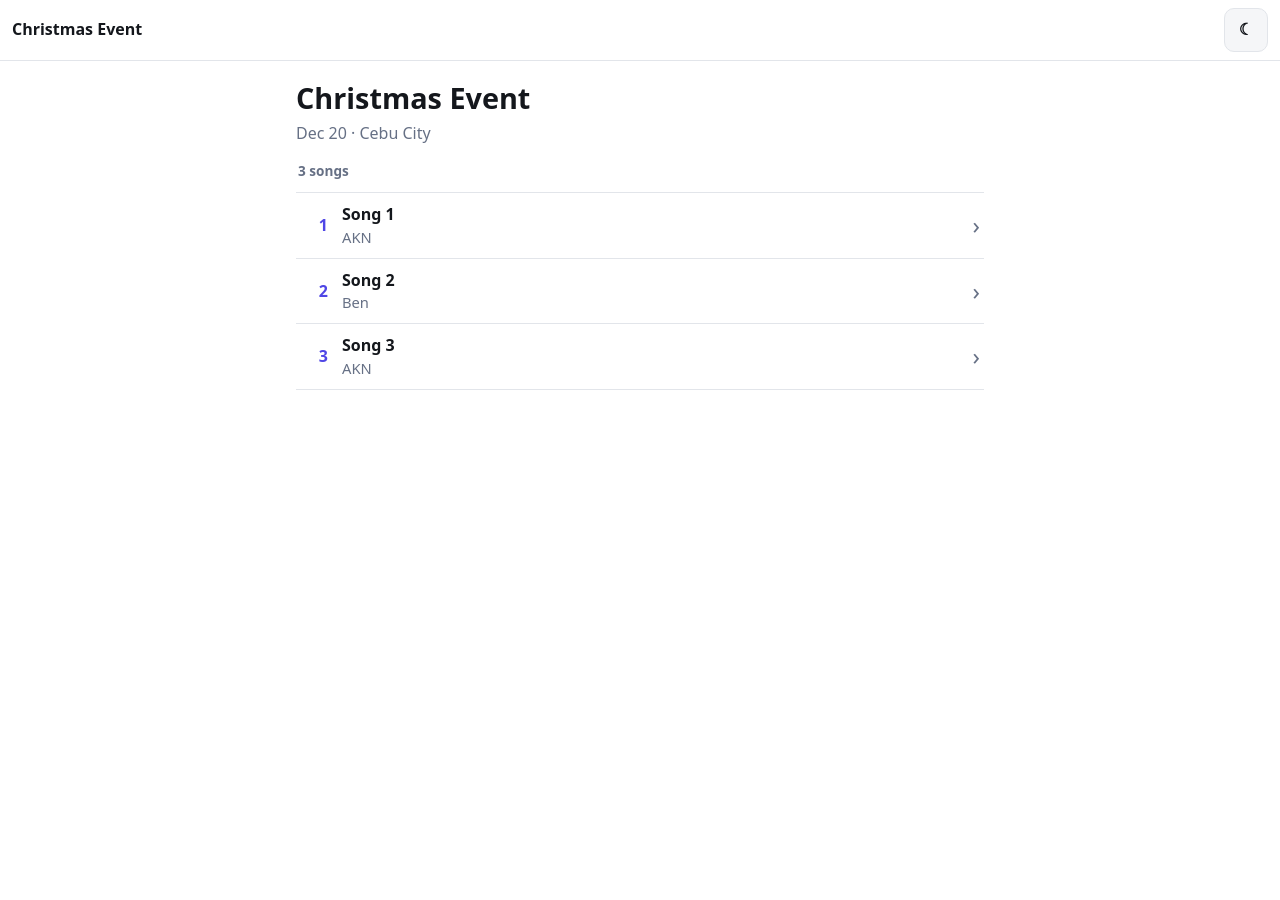
opening a share link › tapping a song opens its chord sheet; Next/Prev/Back work through the whole flow
Click the text "Song 2".
click(368, 280)  # box [342,269,395,291]
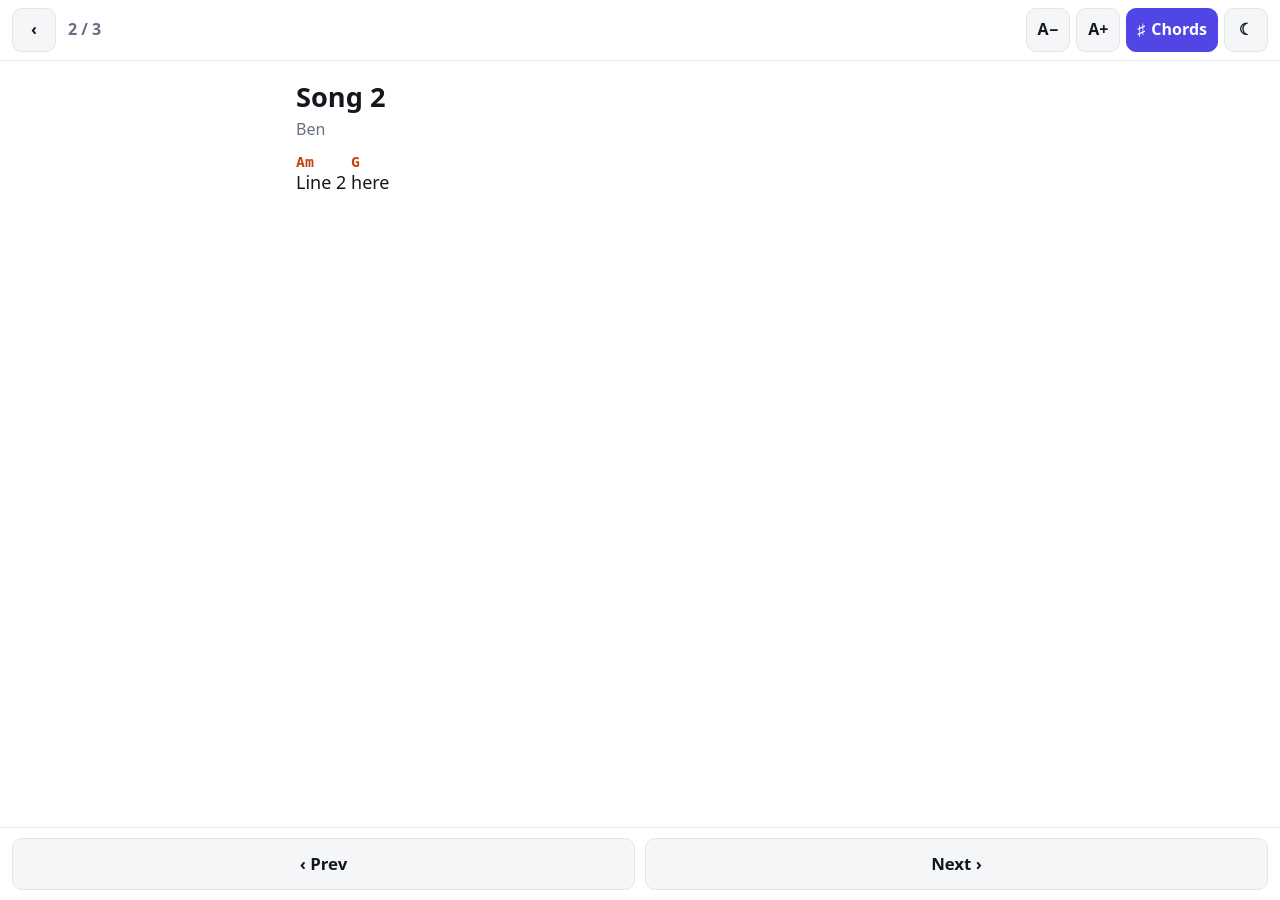
Expected: the heading reads "Song 2", [296,78,386,115]
Expected: the text "2 / 3" is shown, [68,18,101,40]
Expected: the number of elements with class "cl-chord" is 2, [296,153,314,170]; [351,153,360,170]
Click the button "Next ›".
click(956, 864)  # box [645,838,1268,890]
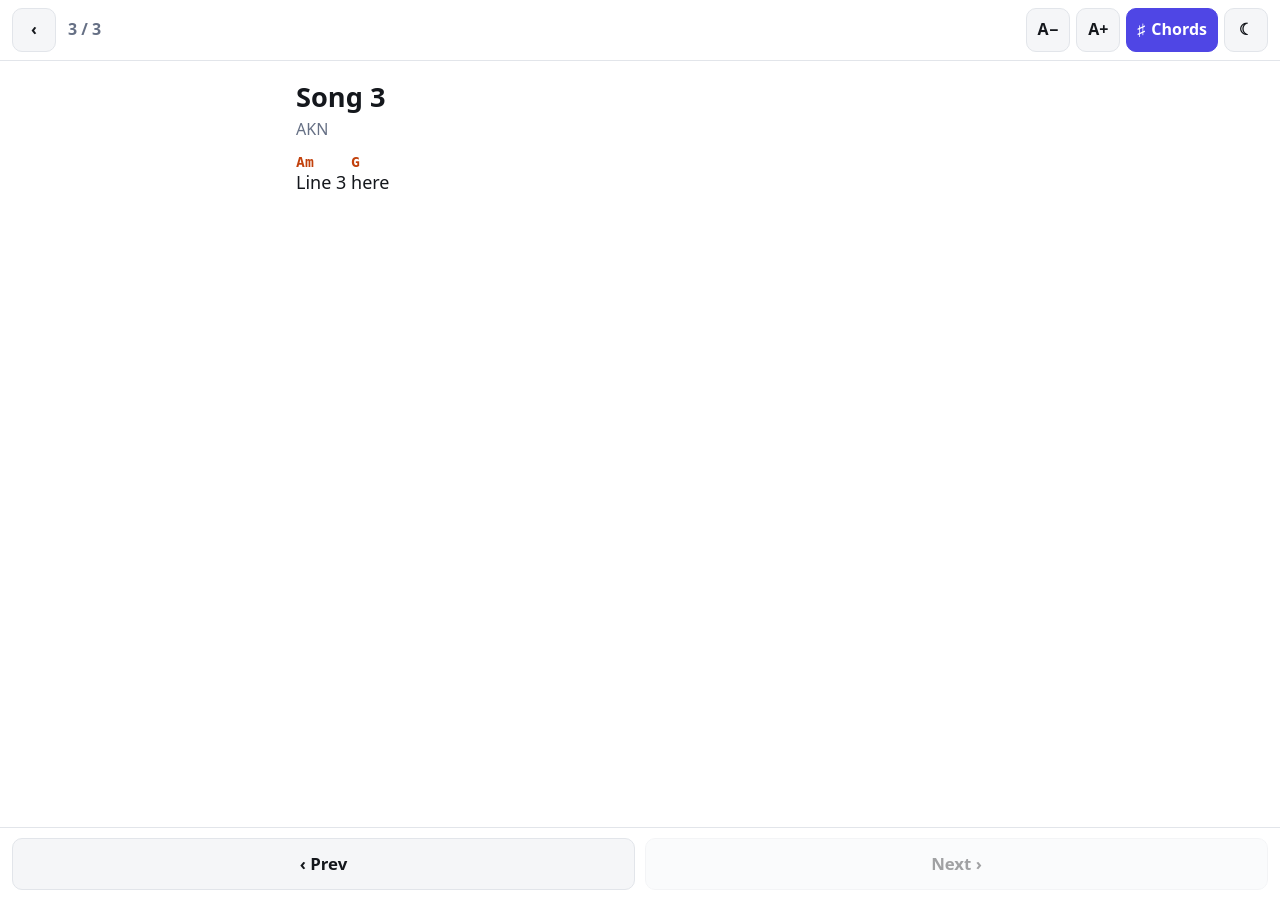
Expected: the heading reads "Song 3", [296,78,386,115]
Click the button "‹ Prev".
click(324, 864)  # box [12,838,635,890]
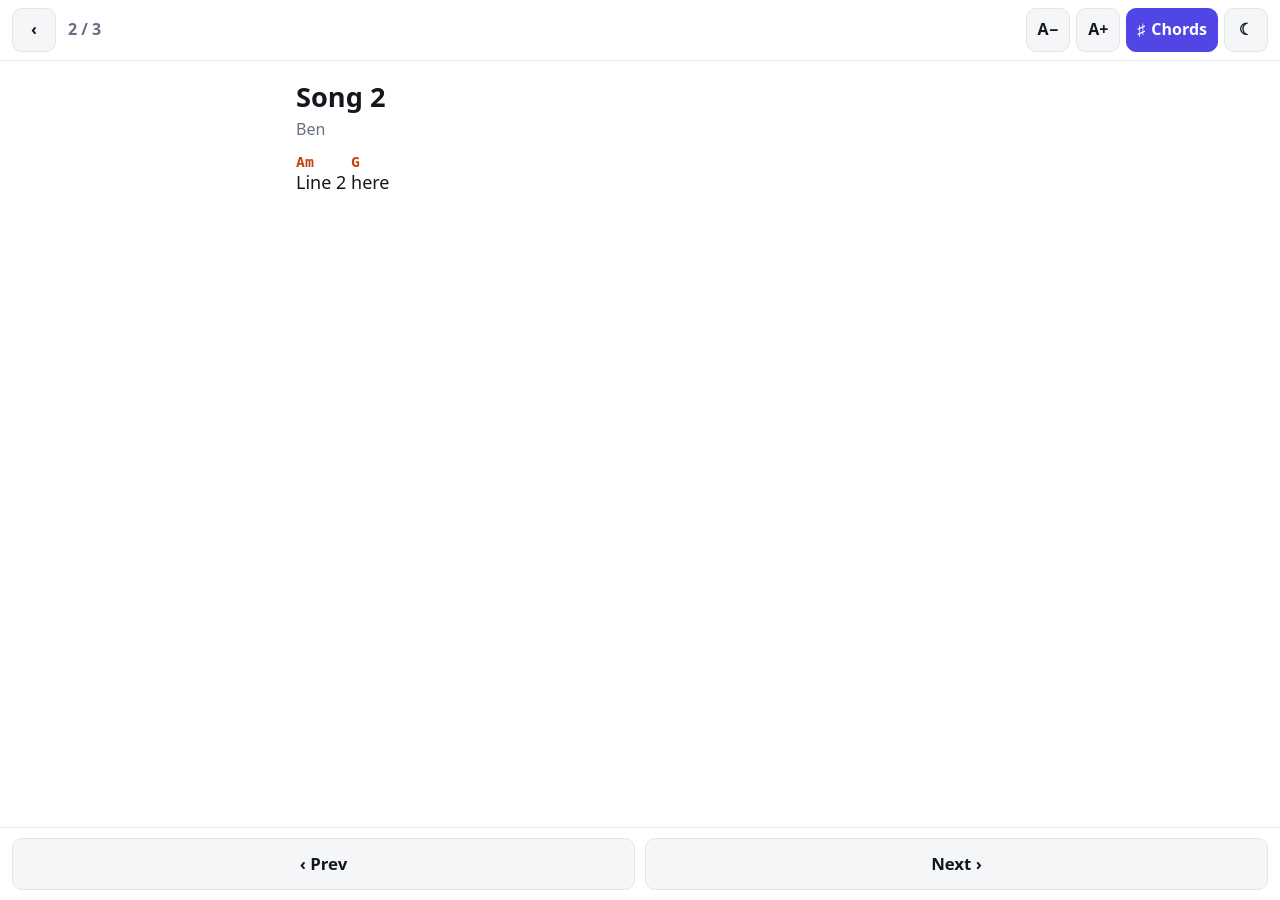
Click the button "‹ Prev".
click(324, 864)  # box [12,838,635,890]
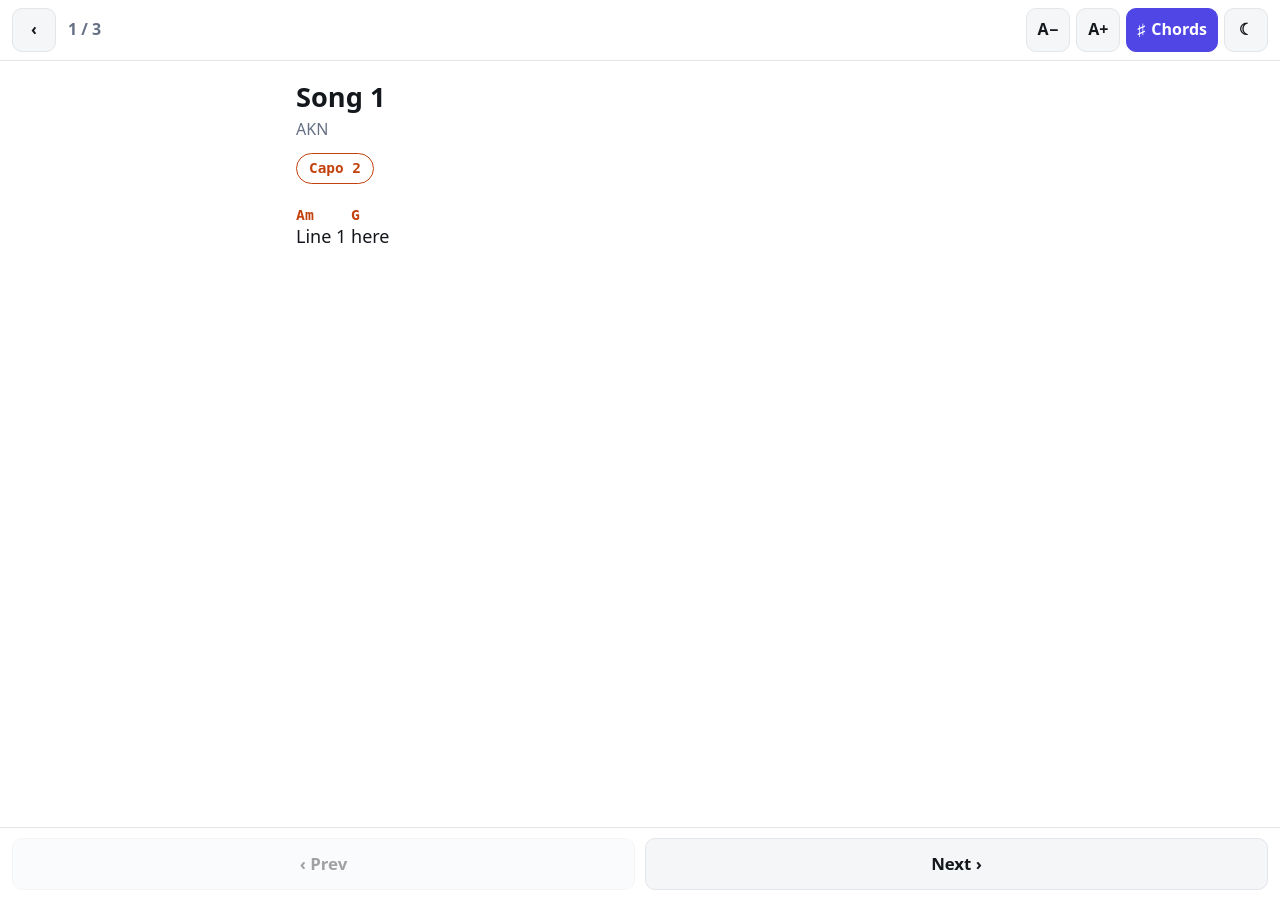
Expected: the heading reads "Song 1", [296,78,386,115]
Expected: the text "Capo 2" is shown, [296,153,374,184]
Click the link named "back to setlist".
click(34, 30)  # box [12,8,56,52]
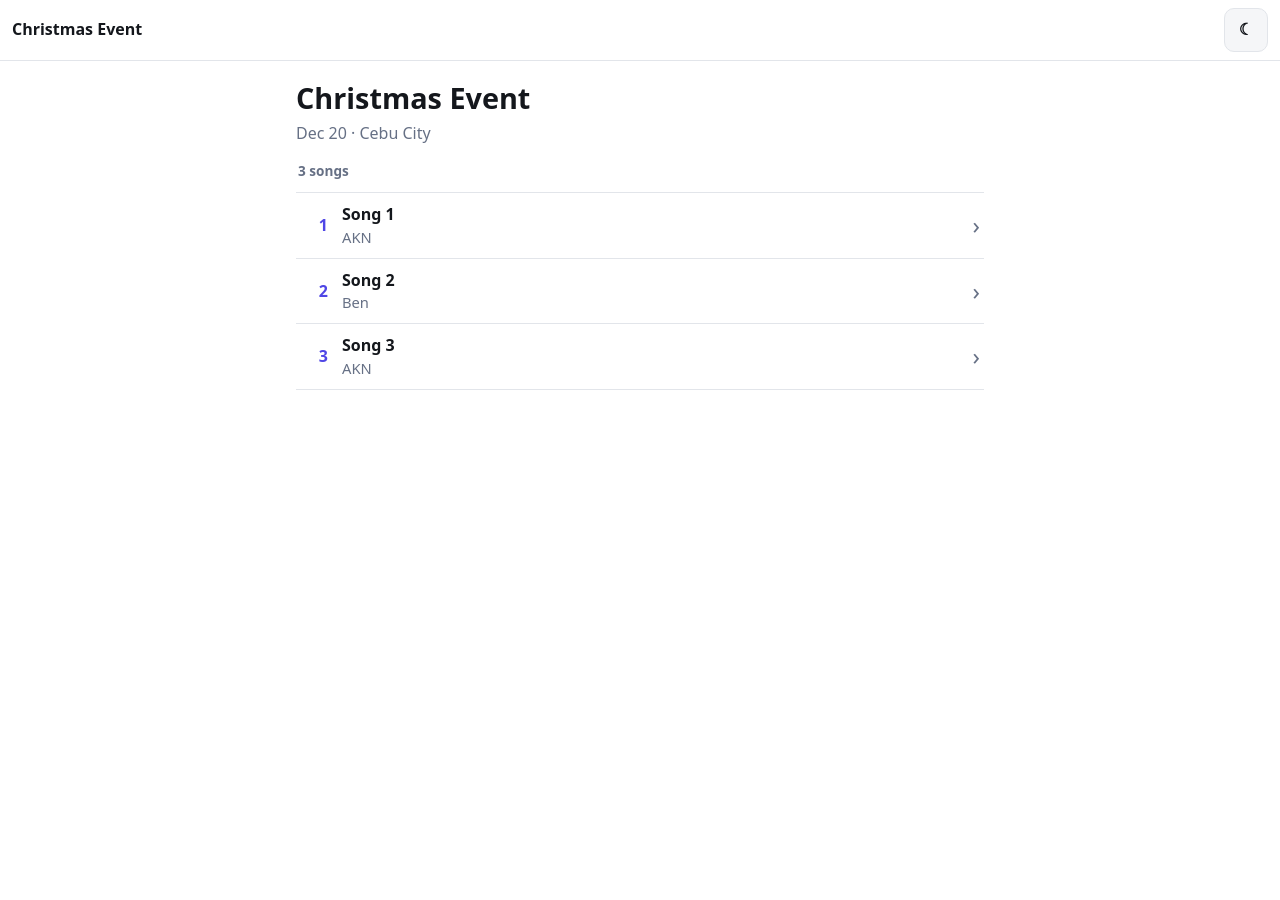
Expected: the text "3 songs" is shown, [298,161,349,180]
